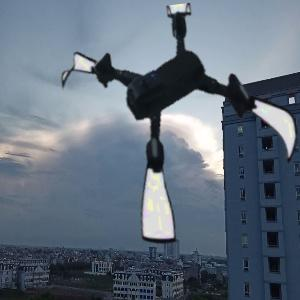drone: (62, 6, 300, 245)
